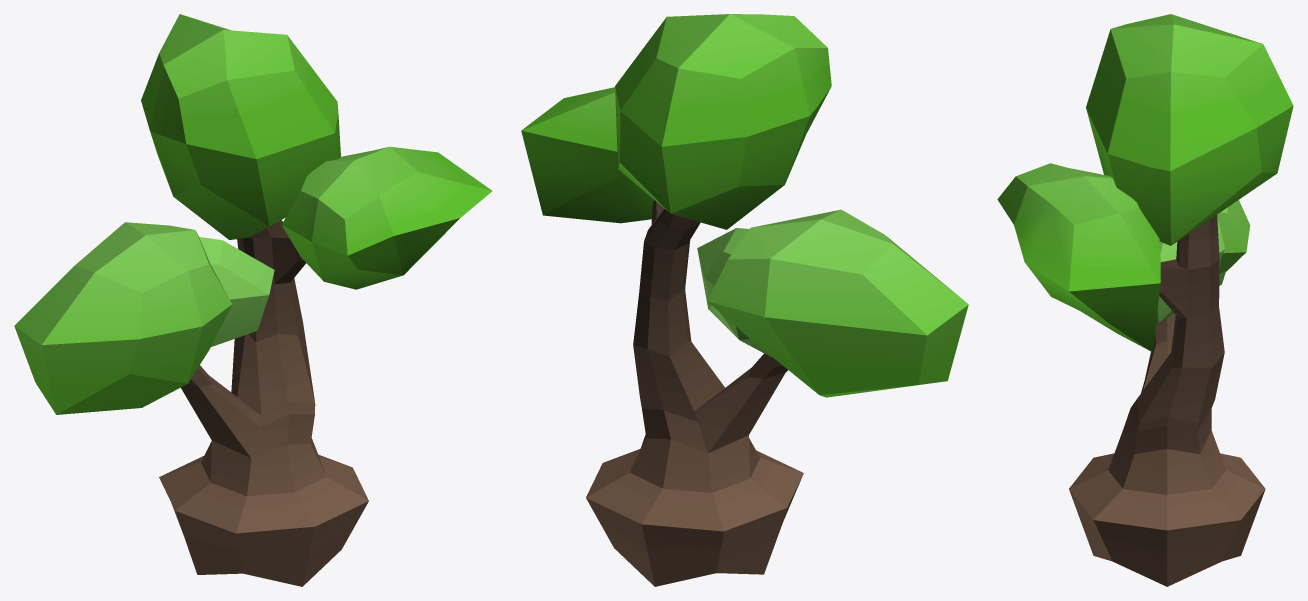
The model's file is SM_TreeVar2.fbx.
3 views of the same model, side by side, from view 1: azimuth 30°, elevation 25°; view 2: azimuth 150°, elevation 25°; view 3: azimuth 270°, elevation 25° (orthographic). The views are drawn at different scales.
Parts seen in each view (by area): view 1: SM_TreeVar2; view 2: SM_TreeVar2; view 3: SM_TreeVar2.
Boxes of the visible parts, bbox=[...] form: SM_TreeVar2: bbox=[14, 14, 492, 586]; SM_TreeVar2: bbox=[521, 14, 968, 586]; SM_TreeVar2: bbox=[997, 14, 1293, 586].
Bounding box in the file's own units: 27.33 × 33.8 × 17.37.
